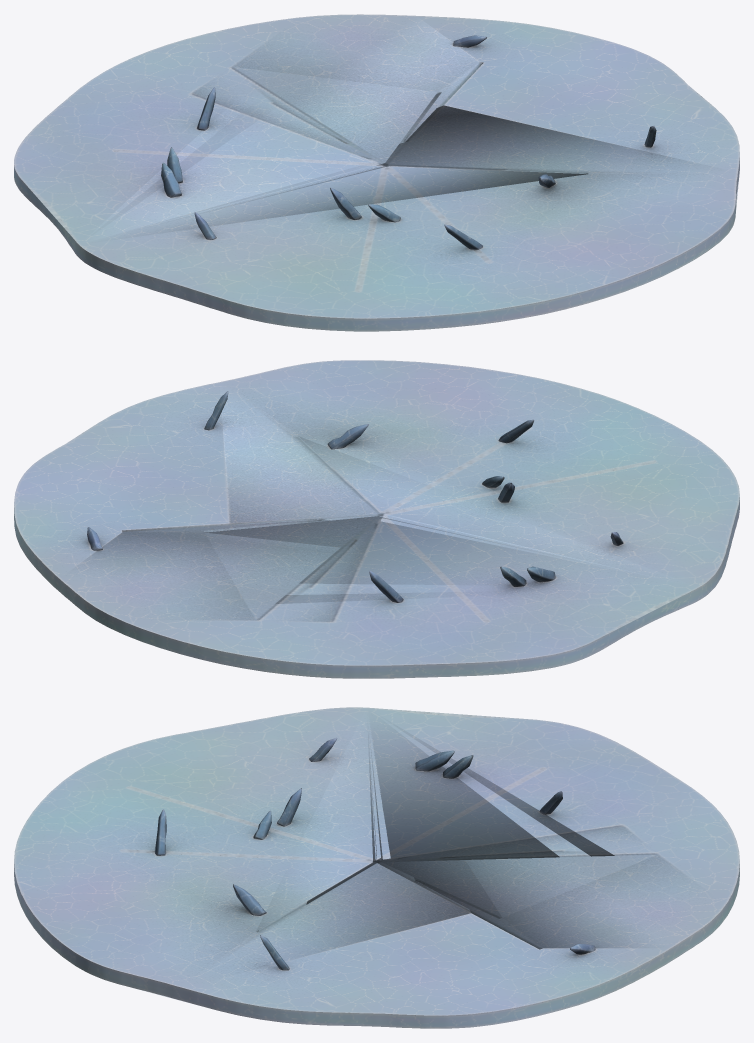
The model's file is IceFloor.fbx.
The picture shows the model from 3 angles, top to bottom: view 1: azimuth 30°, elevation 25°; view 2: azimuth 150°, elevation 25°; view 3: azimuth 270°, elevation 25°; orthographic projection.
Visible parts, largest first — view 1: IceFloor; view 2: IceFloor; view 3: IceFloor.
Part boxes in pixels (x1,y1,x2,y2): IceFloor: (14,14,739,331); IceFloor: (14,360,739,678); IceFloor: (14,707,739,1028).
Bounding box in the file's own units: 603 × 40.31 × 600.
